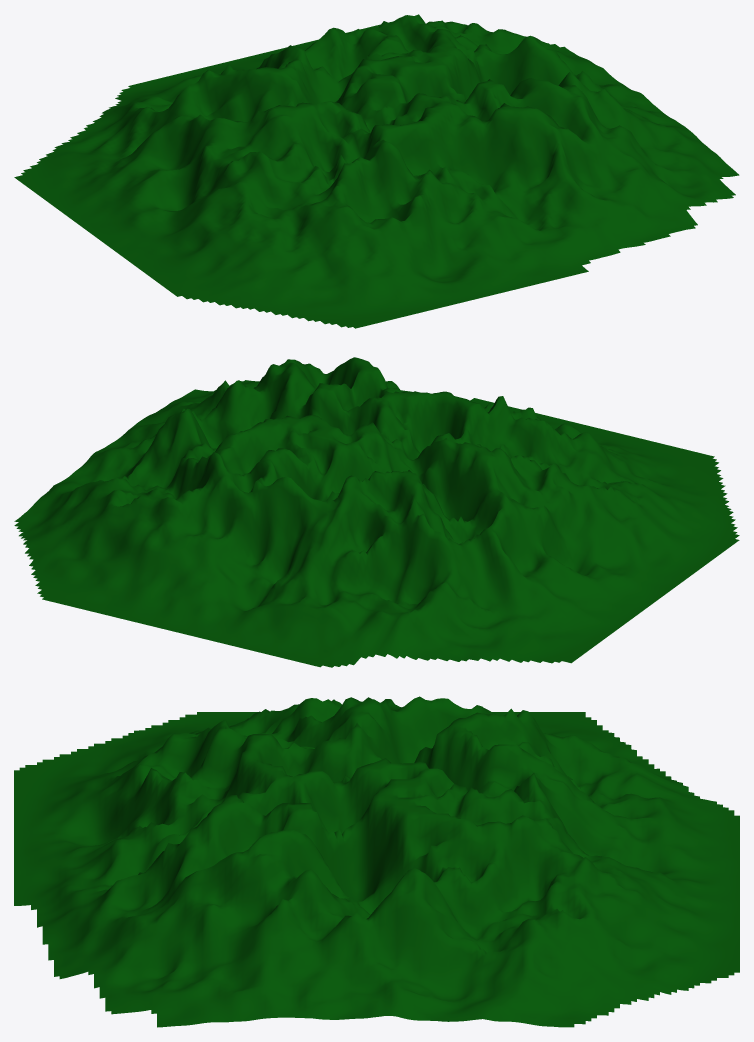
Rendered from hills.fbx.
3 views of the same model, one above another, from view 1: azimuth 30°, elevation 25°; view 2: azimuth 150°, elevation 25°; view 3: azimuth 270°, elevation 25° (orthographic). The views are drawn at different scales.
Visible parts, largest first — view 1: Landscape.001; view 2: Landscape.001; view 3: Landscape.001.
Boxes of the visible parts, left/top/right/bottom form: Landscape.001: left=14, top=14, right=739, bottom=328; Landscape.001: left=14, top=357, right=739, bottom=667; Landscape.001: left=14, top=696, right=739, bottom=1027.
Size of the model in its own units: 612 by 103 by 593.
Materials: 1 (1 with a texture image).
